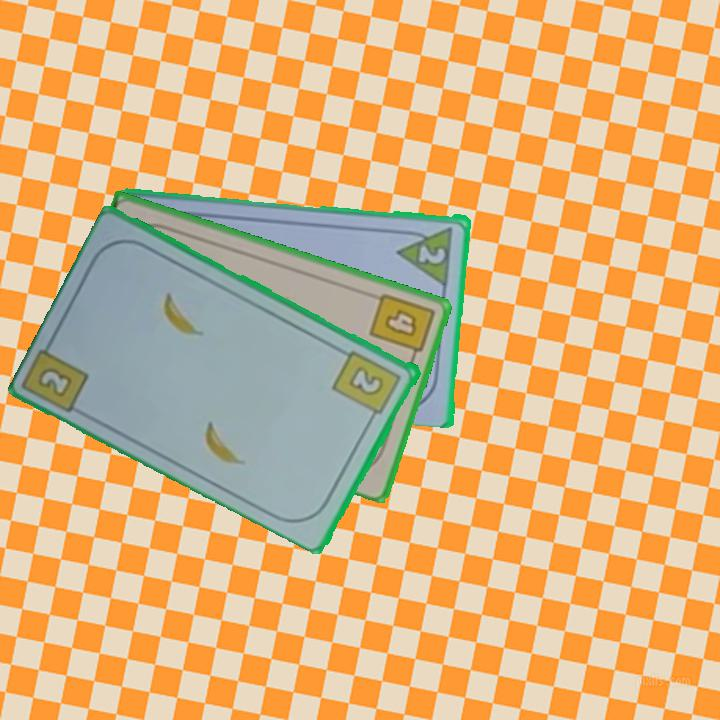2b: (330, 346, 405, 424), (34, 363, 76, 401)
2p: (415, 241, 449, 267)
4b: (366, 289, 438, 365)
